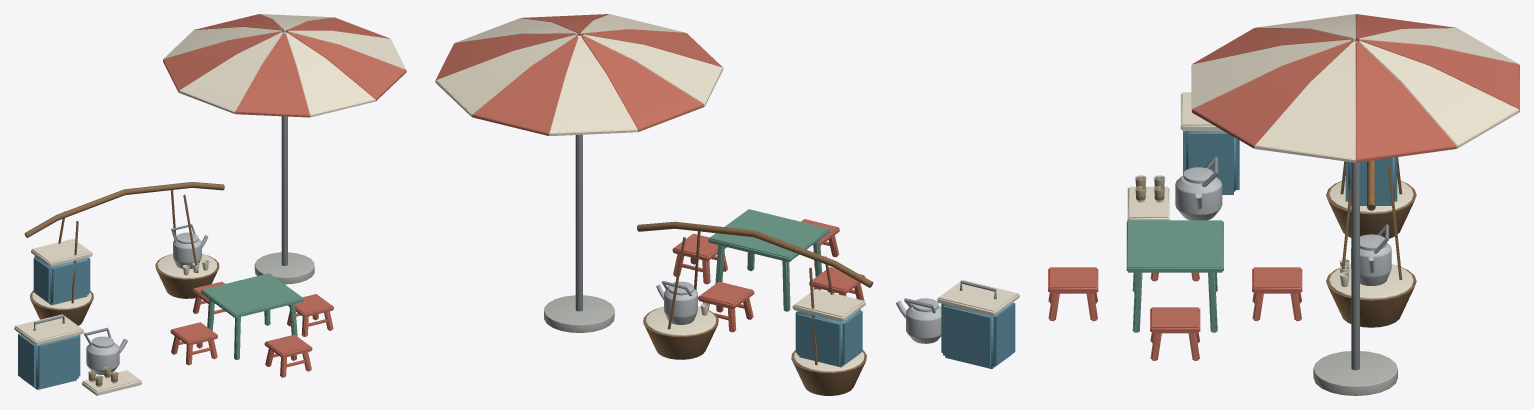
Rendered from SidewalkTeaSpace.glb.
3 renders of one model, left to right at view 1: azimuth 30°, elevation 25°; view 2: azimuth 150°, elevation 25°; view 3: azimuth 270°, elevation 25°, orthographic. The views are drawn at different scales.
Parts seen in each view (by area): view 1: ST_StreetUmbrella_ST_cream.001, ST_StreetUmbrella_ST_red.001, ST_TeaShoulderPole_PBK_Indochine_wood.001, ST_PlasticTableLow_ST_plastic_green.001, ST_Ice_Cooler.001, ST_TeaShoulderPole_ST_cream.001, ST_Carry_Ice_Cooler.001, ST_TeaServiceSet_ST_cream.001, ST_Umbrella_Base.001, ST_PlasticStoolLow_ST_plastic_red.001, ST_PlasticStoolLow_ST_plastic_red.003, ST_TeaServiceSet_ST_steel.001 (+4 smaller); view 2: ST_StreetUmbrella_ST_cream.001, ST_StreetUmbrella_ST_red.001, ST_TeaShoulderPole_PBK_Indochine_wood.001, ST_PlasticTableLow_ST_plastic_green.001, ST_Ice_Cooler.001, ST_TeaShoulderPole_ST_cream.001, ST_Carry_Ice_Cooler.001, ST_Umbrella_Base.001, ST_TeaServiceSet_ST_cream.001, ST_TeaServiceSet_ST_steel.001, ST_PlasticStoolLow_ST_plastic_red.004, ST_StreetUmbrella_PBK_Indochine_metal.001 (+3 smaller); view 3: ST_StreetUmbrella_ST_red.001, ST_StreetUmbrella_ST_cream.001, ST_PlasticTableLow_ST_plastic_green.001, ST_TeaShoulderPole_PBK_Indochine_wood.001, ST_Umbrella_Base.001, ST_TeaShoulderPole_ST_cream.001, ST_Ice_Cooler.001, ST_TeaServiceSet_ST_steel.001, ST_TeaServiceSet_ST_cream.001, ST_StreetUmbrella_PBK_Indochine_metal.001, ST_PlasticStoolLow_ST_plastic_red.003, ST_PlasticStoolLow_ST_plastic_red.004 (+5 smaller).
Boxes of the visible parts, <box> form: ST_StreetUmbrella_ST_cream.001: <box>163,14,406,117</box>; ST_StreetUmbrella_ST_red.001: <box>163,14,406,117</box>; ST_TeaShoulderPole_PBK_Indochine_wood.001: <box>24,182,224,325</box>; ST_PlasticTableLow_ST_plastic_green.001: <box>200,273,303,359</box>; ST_Ice_Cooler.001: <box>18,333,80,389</box>; ST_TeaShoulderPole_ST_cream.001: <box>31,239,217,309</box>; ST_Carry_Ice_Cooler.001: <box>33,256,90,305</box>; ST_TeaServiceSet_ST_cream.001: <box>14,314,141,395</box>; ST_Umbrella_Base.001: <box>254,252,314,284</box>; ST_PlasticStoolLow_ST_plastic_red.001: <box>170,322,217,365</box>; ST_PlasticStoolLow_ST_plastic_red.003: <box>264,334,312,377</box>; ST_TeaServiceSet_ST_steel.001: <box>86,336,127,374</box>; ST_StreetUmbrella_ST_cream.001: <box>435,14,723,135</box>; ST_StreetUmbrella_ST_red.001: <box>435,14,722,135</box>; ST_TeaShoulderPole_PBK_Indochine_wood.001: <box>637,221,873,395</box>; ST_PlasticTableLow_ST_plastic_green.001: <box>708,209,829,311</box>; ST_Ice_Cooler.001: <box>941,302,1015,368</box>; ST_TeaShoulderPole_ST_cream.001: <box>645,289,865,372</box>; ST_Carry_Ice_Cooler.001: <box>795,309,862,367</box>; ST_Umbrella_Base.001: <box>544,295,614,332</box>; ST_TeaServiceSet_ST_cream.001: <box>937,280,1019,316</box>; ST_TeaServiceSet_ST_steel.001: <box>896,298,941,343</box>; ST_PlasticStoolLow_ST_plastic_red.004: <box>698,281,754,332</box>; ST_StreetUmbrella_PBK_Indochine_metal.001: <box>575,34,582,311</box>; ST_StreetUmbrella_ST_red.001: <box>1192,14,1519,162</box>; ST_StreetUmbrella_ST_cream.001: <box>1191,14,1519,162</box>; ST_PlasticTableLow_ST_plastic_green.001: <box>1126,220,1223,332</box>; ST_TeaShoulderPole_PBK_Indochine_wood.001: <box>1326,157,1416,327</box>; ST_Umbrella_Base.001: <box>1313,351,1397,395</box>; ST_TeaShoulderPole_ST_cream.001: <box>1329,180,1413,299</box>; ST_Ice_Cooler.001: <box>1183,131,1239,194</box>; ST_TeaServiceSet_ST_steel.001: <box>1175,167,1222,220</box>; ST_TeaServiceSet_ST_cream.001: <box>1127,92,1222,221</box>; ST_StreetUmbrella_PBK_Indochine_metal.001: <box>1351,40,1359,370</box>; ST_PlasticStoolLow_ST_plastic_red.003: <box>1048,267,1098,321</box>; ST_PlasticStoolLow_ST_plastic_red.004: <box>1252,267,1302,321</box>.
Bounding box in the file's own units: 4.32 × 2.38 × 3.01.
Materials: 11 (1 with a texture image).
